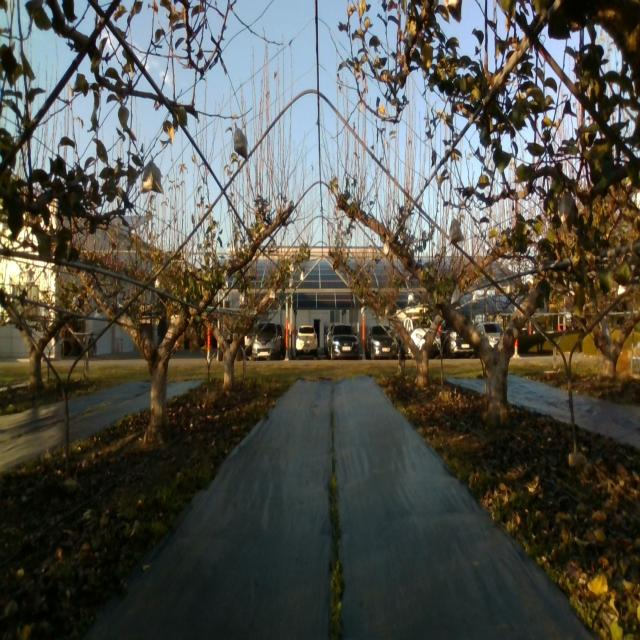pearbags: (558, 190, 578, 235), (142, 161, 164, 194), (234, 126, 248, 162), (450, 219, 464, 244), (451, 288, 461, 306)
